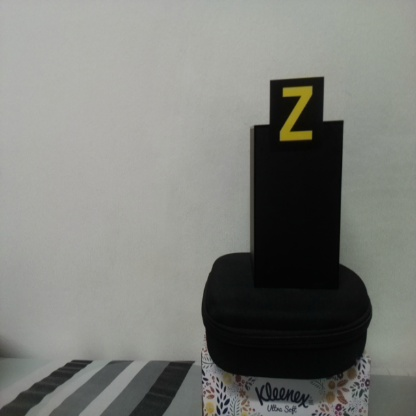id_15: (270, 82, 323, 153)
